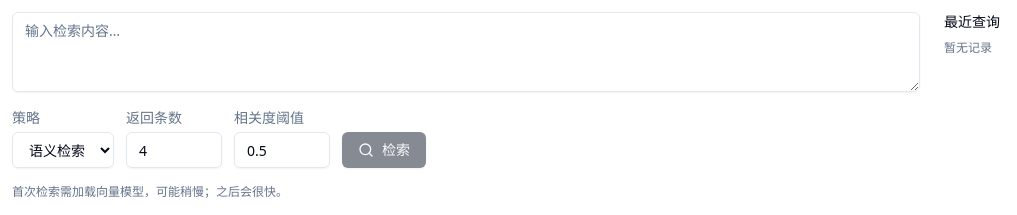
HitTestingView › 全文检索禁用相关度阈值
Select "全文检索" in the dropdown named "检索策略" at (63, 150), box [12, 132, 114, 168]
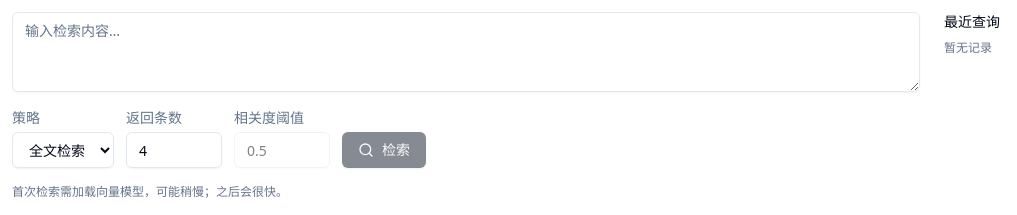
Now the number field labelled "相关度阈值" is disabled, box [234, 132, 330, 168]
